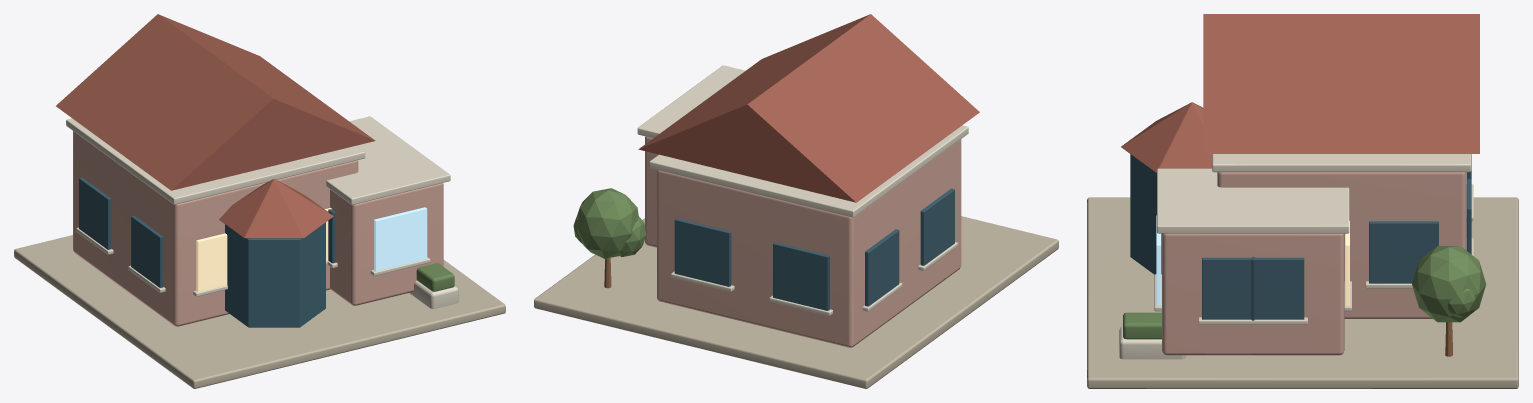
File: rose-house.glb
The picture shows the model from 3 angles, left to right: view 1: azimuth 30°, elevation 25°; view 2: azimuth 150°, elevation 25°; view 3: azimuth 270°, elevation 25°; orthographic projection. The views are drawn at different scales.
Parts seen in each view (by area): view 1: rose_house_Gable_Roof, rose_house_Site_Paving, rose_house_Building_Volume, rose_house_Bay_Window, rose_house_Building_Volume.001, rose_house_Roof_Coping.001, rose_house_Bay_Roof, rose_house_Roof_Coping, rose_house_Window_Recess.009, rose_house_Window_Recess.004, rose_house_Window_Recess.006, rose_house_Window_Recess.001 (+2 smaller); view 2: rose_house_Gable_Roof, rose_house_Building_Volume, rose_house_Site_Paving, rose_house_Roof_Coping, rose_house_Window_Recess.002, rose_house_Tree_Crown, rose_house_Window_Recess, rose_house_Roof_Coping.001, rose_house_Window_Recess.004, rose_house_Window_Recess.006, rose_house_Building_Volume.001, rose_house_Tree_Crown.001; view 3: rose_house_Gable_Roof, rose_house_Site_Paving, rose_house_Building_Volume.001, rose_house_Building_Volume, rose_house_Roof_Coping.001, rose_house_Window_Recess.011, rose_house_Roof_Coping, rose_house_Tree_Crown, rose_house_Bay_Roof, rose_house_Window_Recess.005, rose_house_Bay_Window, rose_house_Hedge (+6 smaller).
Boxes of the visible parts, box(x1,y1,x2,y2) form: rose_house_Gable_Roof: box(56, 14, 375, 190); rose_house_Site_Paving: box(14, 235, 505, 388); rose_house_Building_Volume: box(73, 131, 358, 326); rose_house_Bay_Window: box(225, 222, 325, 327); rose_house_Building_Volume.001: box(330, 183, 443, 305); rose_house_Roof_Coping.001: box(326, 116, 450, 204); rose_house_Bay_Roof: box(219, 179, 333, 238); rose_house_Roof_Coping: box(66, 118, 365, 204); rose_house_Window_Recess.009: box(374, 207, 427, 271); rose_house_Window_Recess.004: box(79, 177, 111, 249); rose_house_Window_Recess.006: box(131, 215, 163, 287); rose_house_Window_Recess.001: box(196, 233, 227, 292); rose_house_Gable_Roof: box(638, 14, 979, 202); rose_house_Building_Volume: box(657, 139, 961, 347); rose_house_Site_Paving: box(534, 216, 1058, 388); rose_house_Roof_Coping: box(649, 125, 968, 217); rose_house_Window_Recess.002: box(674, 218, 731, 286); rose_house_Tree_Crown: box(577, 188, 638, 258); rose_house_Window_Recess: box(773, 242, 829, 310); rose_house_Roof_Coping.001: box(637, 65, 745, 138); rose_house_Window_Recess.004: box(865, 229, 899, 306); rose_house_Window_Recess.006: box(920, 188, 954, 265); rose_house_Building_Volume.001: box(645, 136, 658, 247); rose_house_Tree_Crown.001: box(618, 217, 646, 256); rose_house_Gable_Roof: box(1203, 14, 1479, 153); rose_house_Site_Paving: box(1087, 197, 1518, 388); rose_house_Building_Volume.001: box(1162, 233, 1344, 355); rose_house_Building_Volume: box(1217, 172, 1466, 318); rose_house_Roof_Coping.001: box(1157, 168, 1349, 233); rose_house_Window_Recess.011: box(1202, 257, 1304, 319); rose_house_Roof_Coping: box(1212, 154, 1471, 172); rose_house_Tree_Crown: box(1412, 246, 1486, 322); rose_house_Bay_Roof: box(1121, 102, 1212, 172); rose_house_Window_Recess.005: box(1369, 221, 1438, 283); rose_house_Bay_Window: box(1130, 154, 1161, 274); rose_house_Hedge: box(1123, 312, 1161, 339).
Size of the model in its own units: 7.8 by 5.35 by 7.8.
